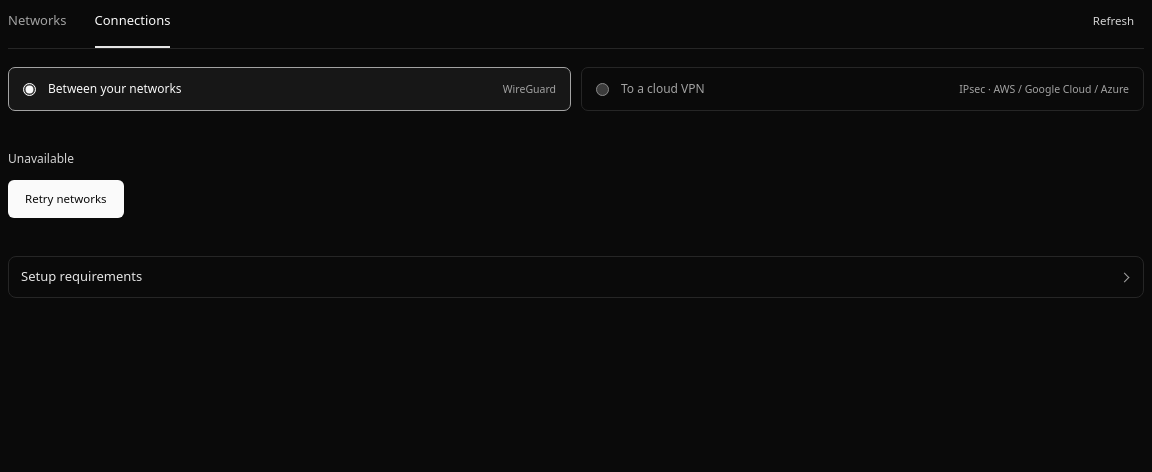
Test: does not turn a failed site read into an empty inventory, and retries
Expected: the message "Unavailable Retry networks" is shown, [8,150,124,218]
Expected: the text "No networks configured yet." is not shown
Click the button "Retry networks" at (66, 199), box [8,180,124,218]
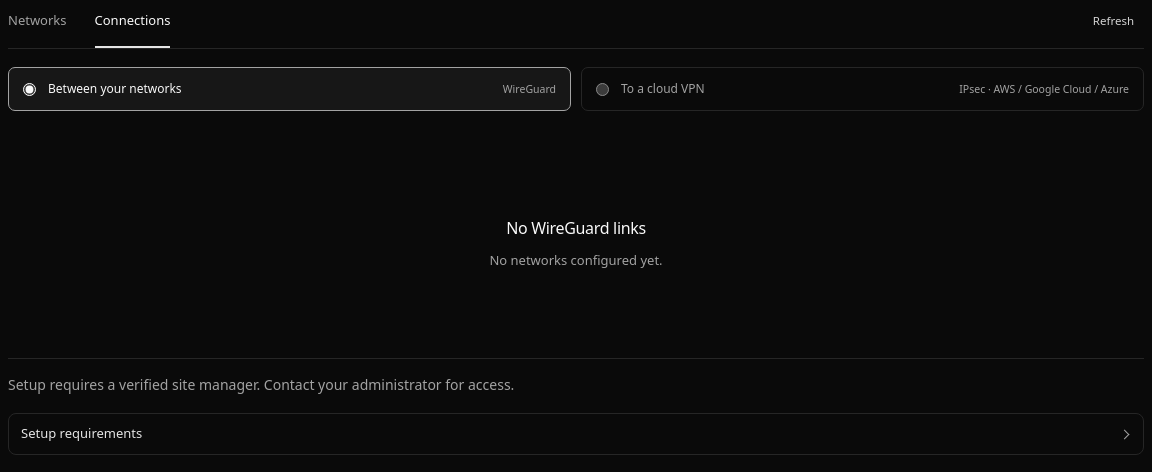
Now the text "No networks configured yet." is shown, box [489,249,662,271]
